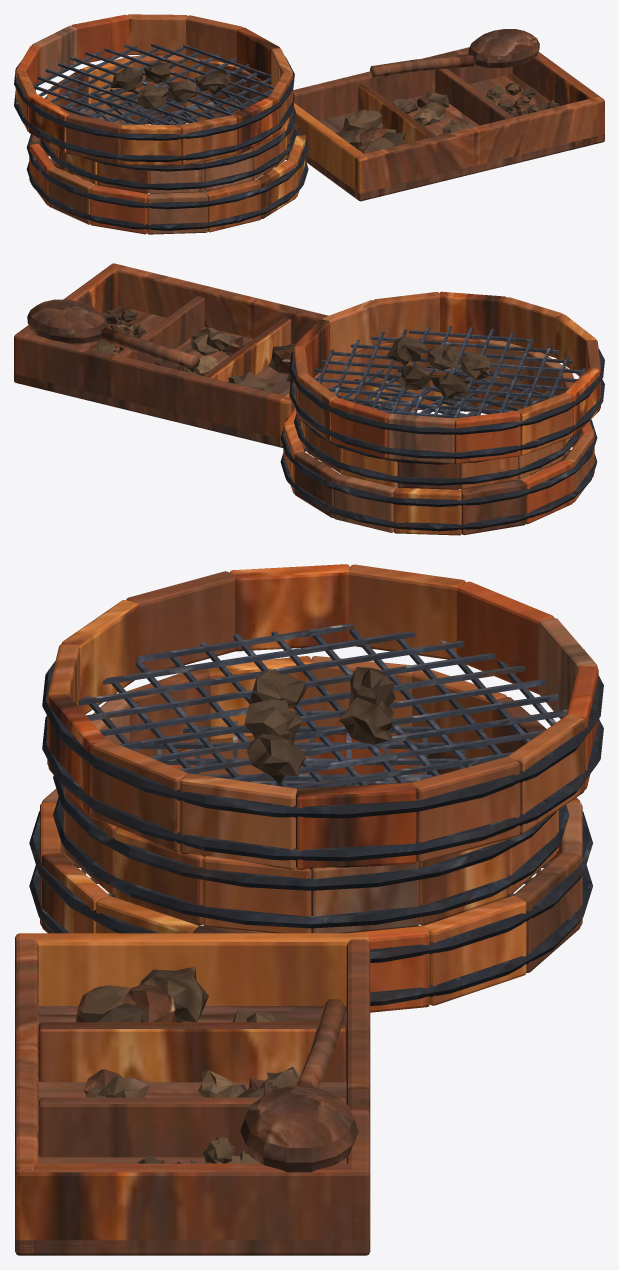
The model's file is op_sieve_stack.glb.
3 renders of one model, top to bottom at view 1: azimuth 30°, elevation 25°; view 2: azimuth 150°, elevation 25°; view 3: azimuth 270°, elevation 25°, orthographic. The views are drawn at different scales.
Visible parts, largest first — view 1: model; view 2: model; view 3: model.
Boxes of the visible parts, <box> form: model: <box>14,14,604,234</box>; model: <box>14,263,604,535</box>; model: <box>15,564,603,1255</box>.
Bounding box in the file's own units: 0.9705 × 0.198 × 0.4971.
16 materials, 15 textured.
